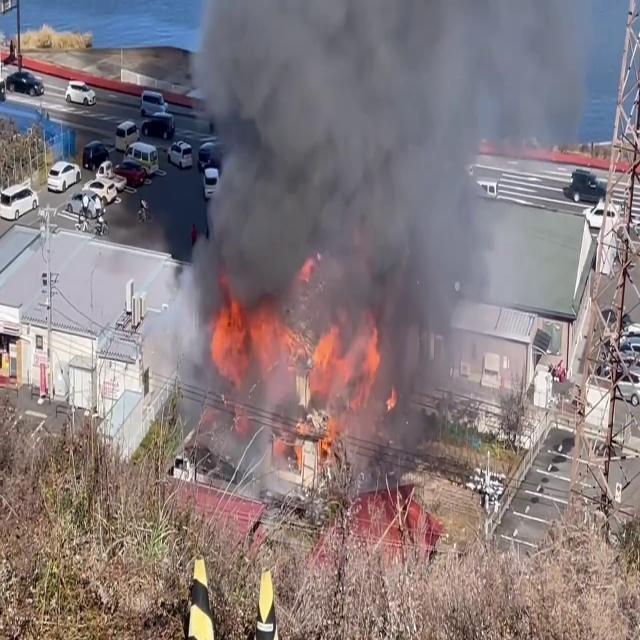Fire: (195, 277, 302, 387), (302, 324, 382, 449)
Smoke: (179, 0, 506, 453)
